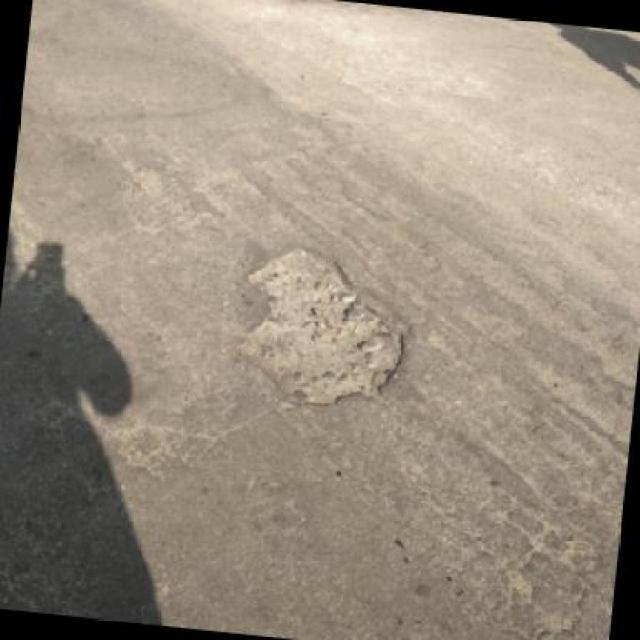pothole1: (230, 238, 418, 417)
